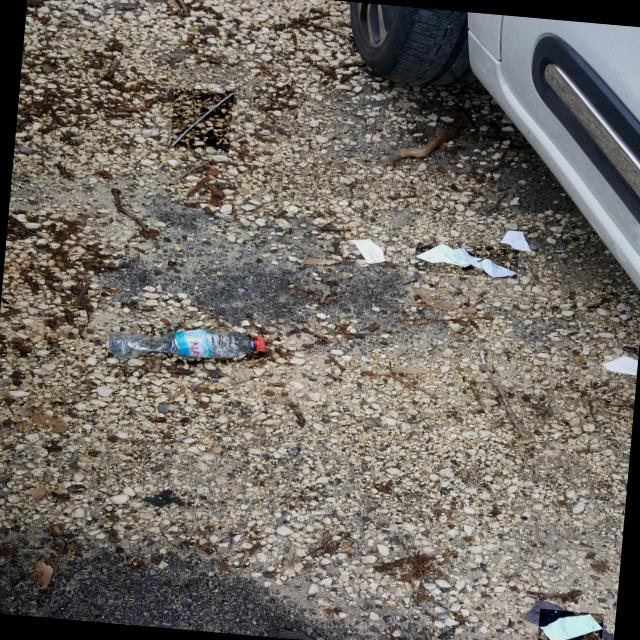Bottle cap: (257, 338, 265, 351)
Clear plastic bottle: (109, 330, 265, 359)
Paper bag: (415, 243, 517, 277), (351, 239, 386, 263), (603, 356, 637, 375), (500, 230, 530, 251)
Straw: (170, 93, 233, 147)
Unlabeled litter: (539, 613, 602, 640)
